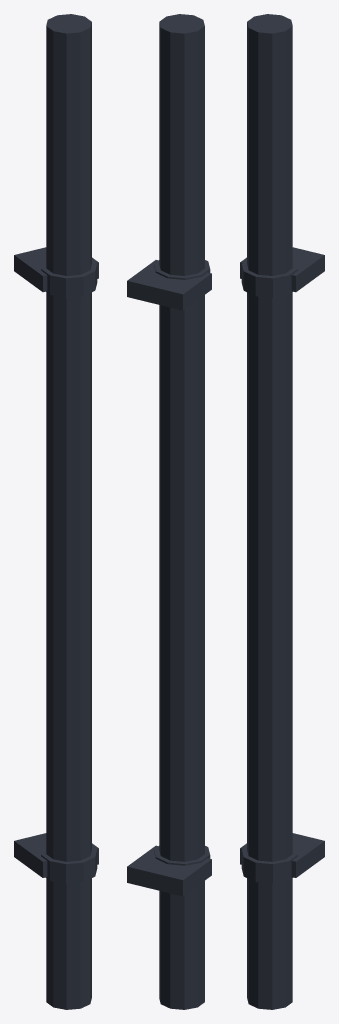
The model's file is drainpipe.glb.
3 views of the same model, side by side, from view 1: azimuth 30°, elevation 25°; view 2: azimuth 150°, elevation 25°; view 3: azimuth 330°, elevation 25° (orthographic).
Parts seen in each view (by area): view 1: drainpipe; view 2: drainpipe; view 3: drainpipe.
Boxes of the visible parts, bbox=[...] form: drainpipe: bbox=[14, 14, 98, 1009]; drainpipe: bbox=[127, 14, 211, 1009]; drainpipe: bbox=[240, 14, 324, 1009].
Bounding box in the file's own units: 0.18 × 3 × 0.23.
Materials: 1 (1 with a texture image).
